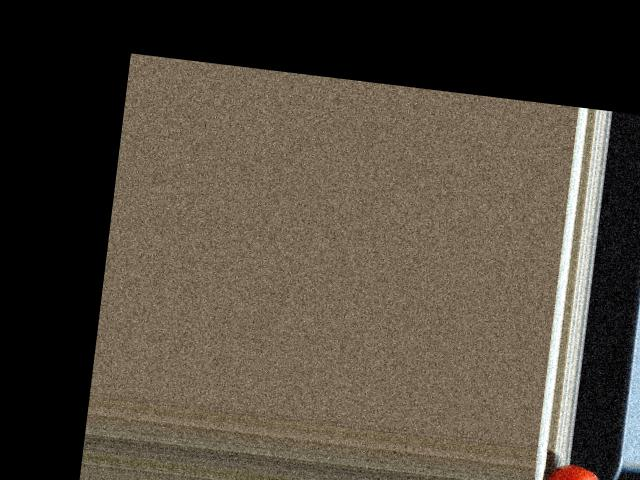tomato: (541, 462, 603, 480)
